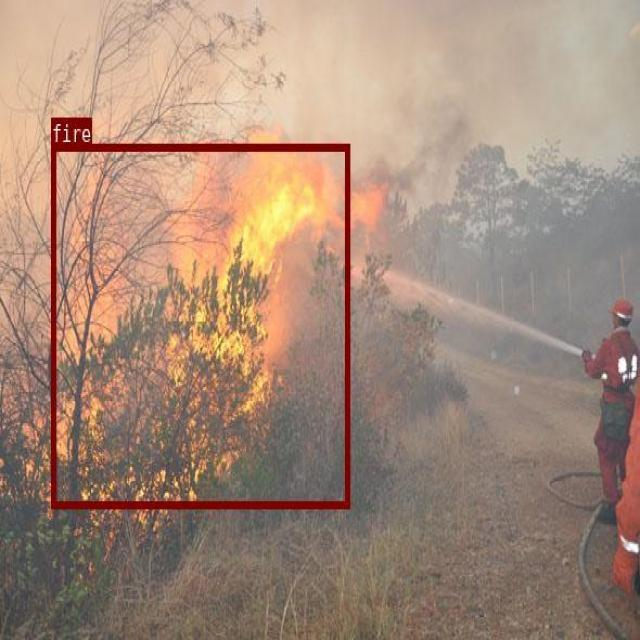fire: (51, 142, 349, 507)
